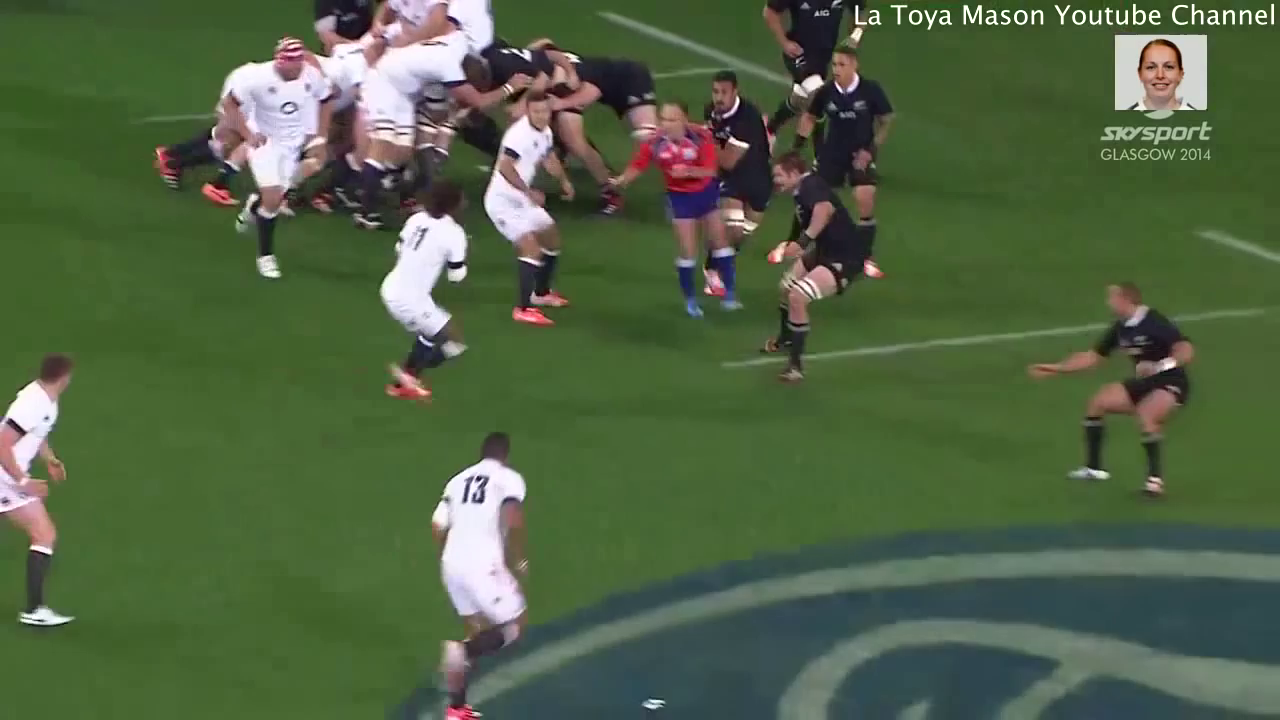maul: (175, 1, 593, 204)
player: (1022, 275, 1200, 507), (416, 424, 552, 720), (219, 33, 334, 288), (618, 99, 742, 319), (367, 179, 483, 414), (785, 52, 897, 285), (1, 348, 92, 632), (756, 156, 857, 389), (483, 86, 571, 336), (759, 1, 864, 148), (697, 55, 783, 228), (564, 47, 659, 138)
